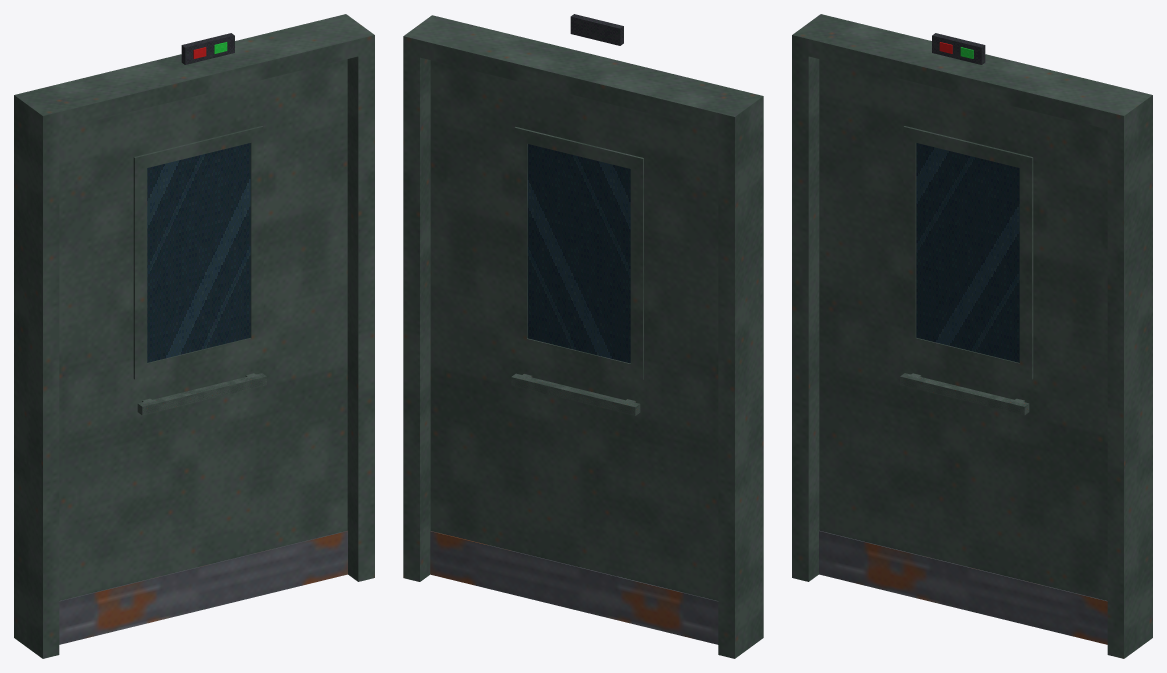
The model's file is Door_Metal.fbx.
3 renders of one model, left to right at view 1: azimuth 30°, elevation 25°; view 2: azimuth 150°, elevation 25°; view 3: azimuth 330°, elevation 25°, orthographic.
Parts seen in each view (by area): view 1: Door_Leaf, Door_Frame, Door_Indicator; view 2: Door_Leaf, Door_Frame, Door_Indicator; view 3: Door_Leaf, Door_Frame, Door_Indicator.
Boxes of the visible parts, x1,y1,x2,y2 form: Door_Leaf: [59, 59, 347, 644]; Door_Frame: [14, 14, 374, 658]; Door_Indicator: [181, 33, 234, 64]; Door_Leaf: [430, 60, 718, 644]; Door_Frame: [403, 15, 763, 658]; Door_Indicator: [570, 14, 623, 45]; Door_Leaf: [819, 59, 1107, 644]; Door_Frame: [792, 14, 1152, 658]; Door_Indicator: [932, 33, 985, 64].
Size of the model in its own units: 1.6 by 2.66 by 0.2545.
Materials: 6 (6 with a texture image).
